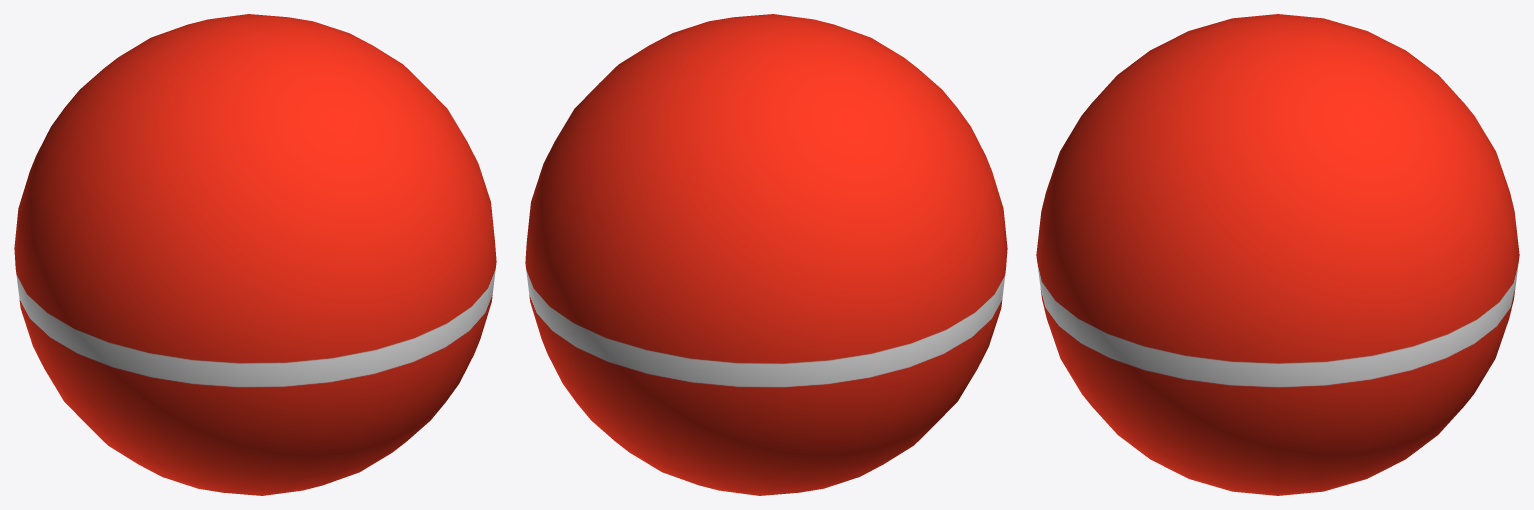
File: Ball.fbx
3 views of the same model, side by side, from view 1: azimuth 30°, elevation 25°; view 2: azimuth 150°, elevation 25°; view 3: azimuth 270°, elevation 25° (orthographic).
Parts seen in each view (by area): view 1: Ball; view 2: Ball; view 3: Ball.
Part boxes in pixels (x1=…): Ball: x1=14, y1=14, x2=496, y2=495; Ball: x1=525, y1=14, x2=1007, y2=495; Ball: x1=1036, y1=14, x2=1519, y2=495.
Size of the model in its own units: 1.6 by 1.6 by 1.6.
Materials: 1 (1 with a texture image).
